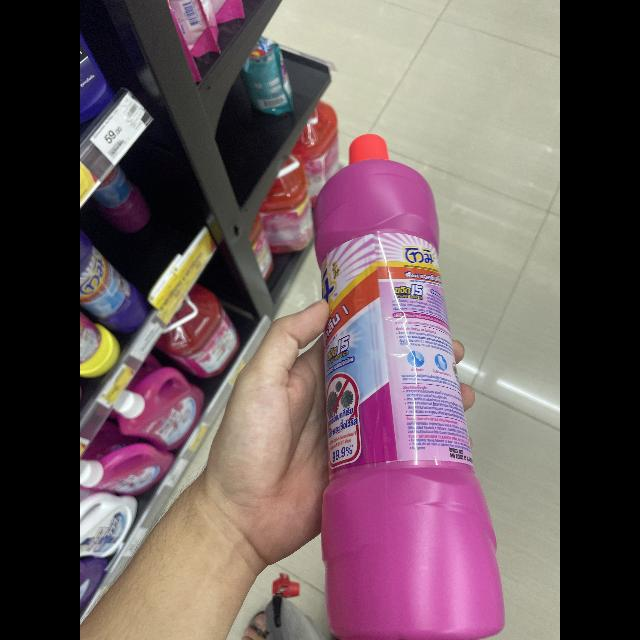chemical_plastic_bottle: (301, 122, 515, 640)
